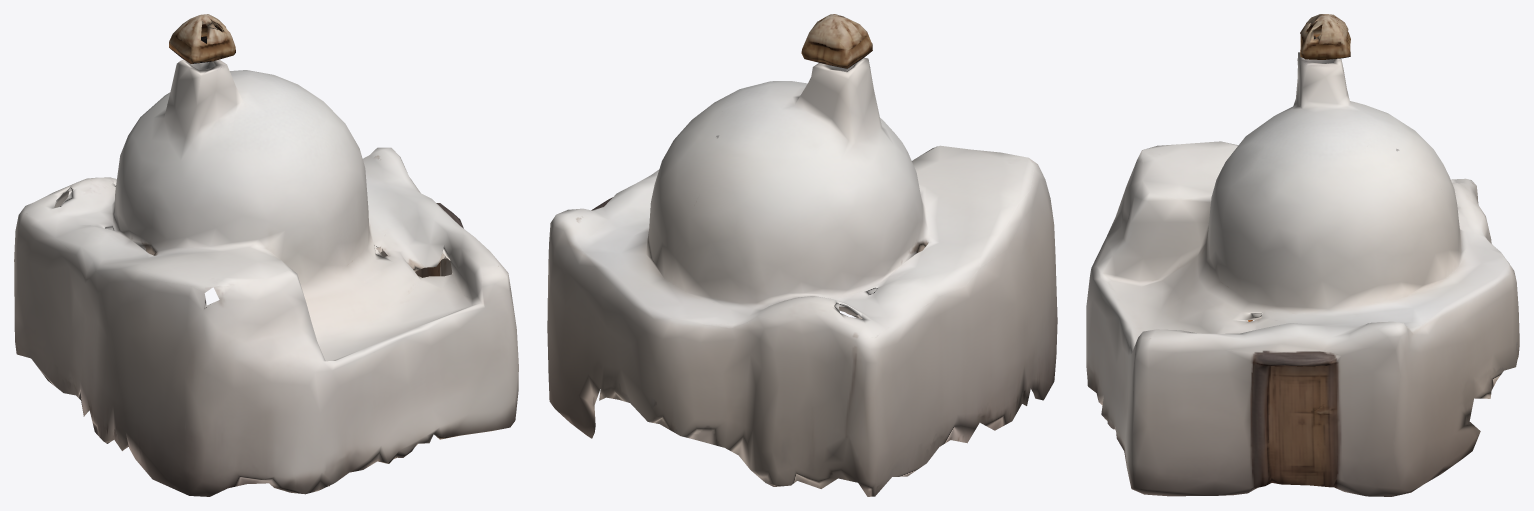
Rendered from domehouse.glb.
3 views of the same model, side by side, from view 1: azimuth 30°, elevation 25°; view 2: azimuth 150°, elevation 25°; view 3: azimuth 270°, elevation 25° (orthographic). The views are drawn at different scales.
Parts seen in each view (by area): view 1: geometry_0; view 2: geometry_0; view 3: geometry_0.
Boxes of the visible parts, x1,y1,x2,y2 form: geometry_0: [14, 14, 518, 496]; geometry_0: [547, 14, 1057, 496]; geometry_0: [1086, 14, 1519, 496].
Size of the model in its own units: 0.9504 by 0.9575 by 0.9957.
Materials: 1 (1 with a texture image).
